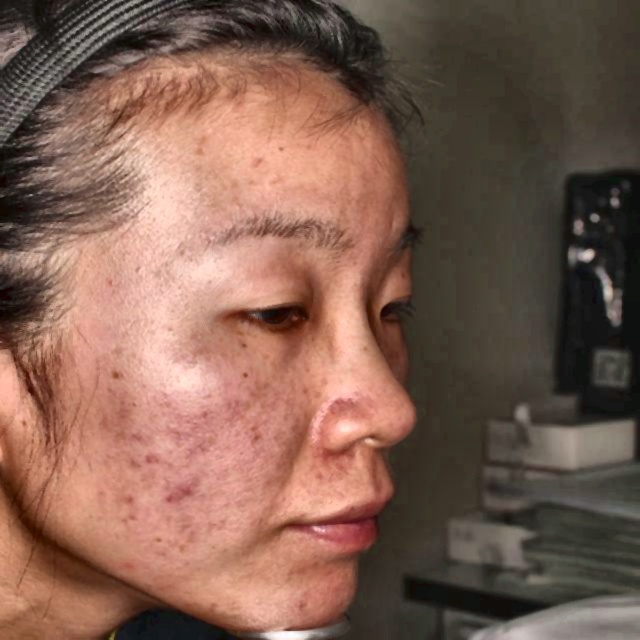comedone: (167, 473, 198, 509)
